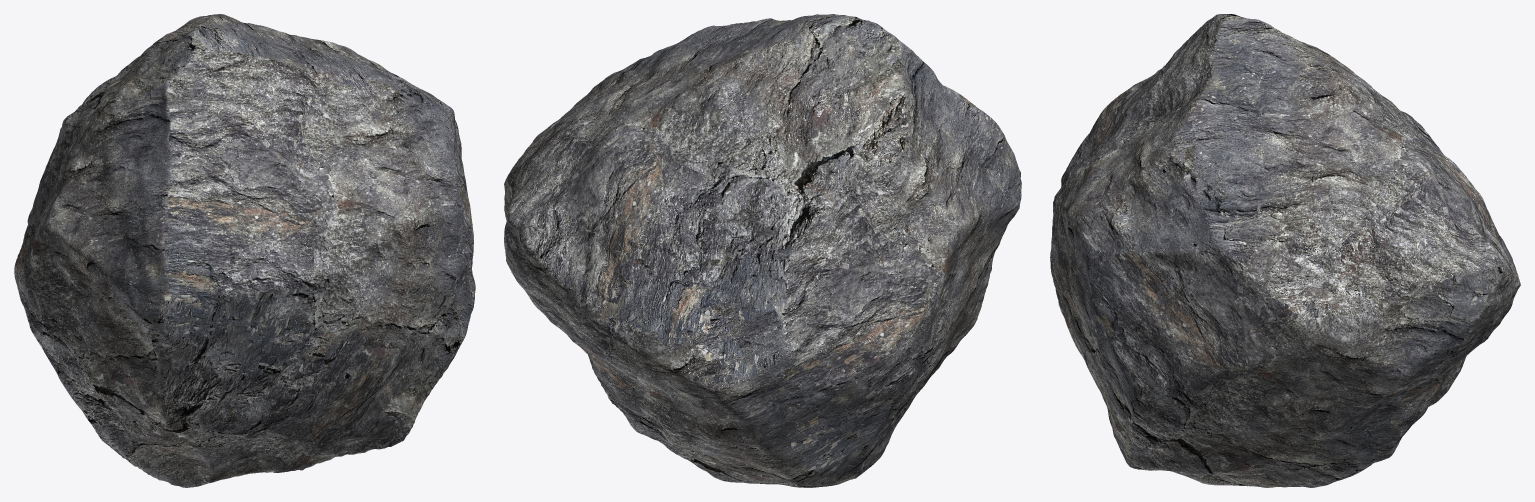
File: rock.dae
The picture shows the model from 3 angles, left to right: view 1: azimuth 30°, elevation 25°; view 2: azimuth 150°, elevation 25°; view 3: azimuth 270°, elevation 25°; orthographic projection. The views are drawn at different scales.
Visible parts, largest first — view 1: meteor; view 2: meteor; view 3: meteor.
Boxes of the visible parts, <box> form: meteor: <box>14,14,475,487</box>; meteor: <box>504,14,1021,487</box>; meteor: <box>1050,14,1520,487</box>.
Bounding box in the file's own units: 230 × 234 × 231.
Materials: 1 (1 with a texture image).
